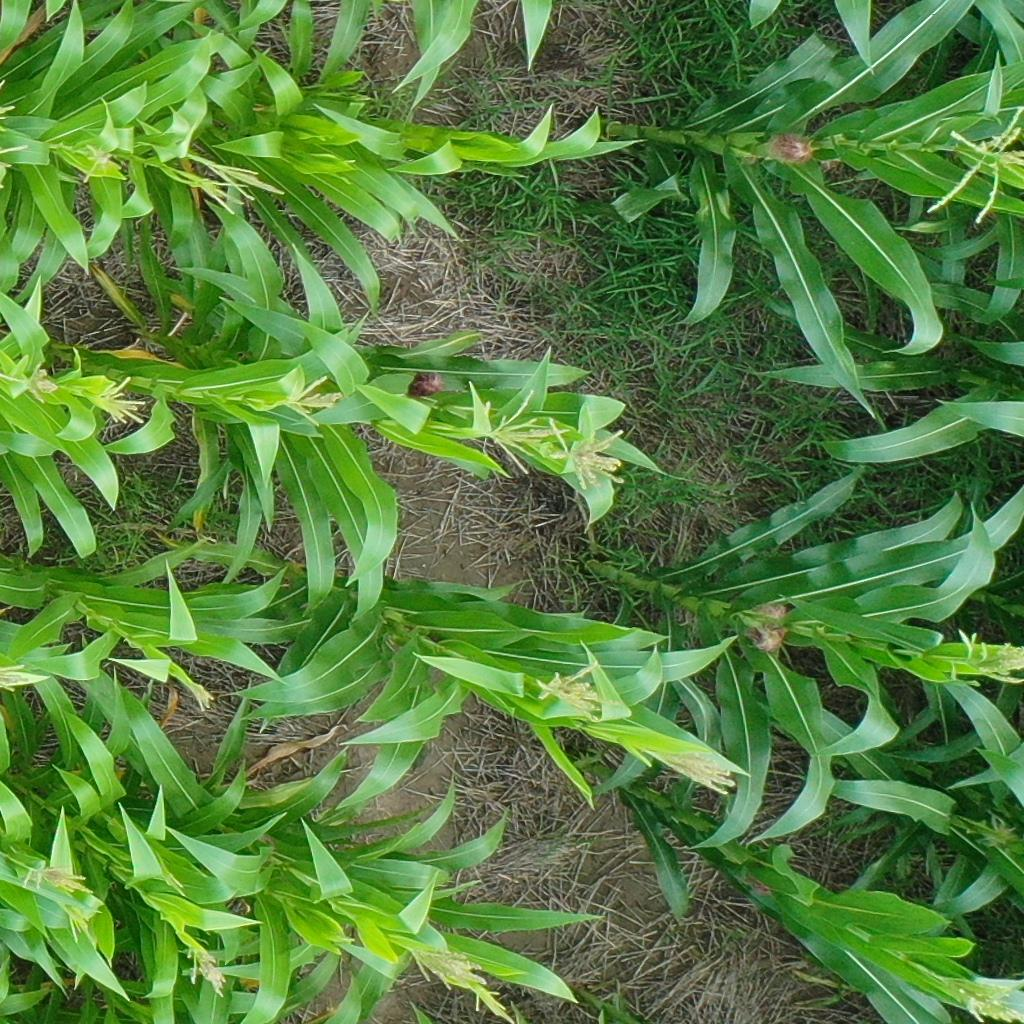Tassel: (923, 101, 1024, 227), (475, 385, 572, 475), (646, 734, 745, 803), (534, 658, 632, 727), (550, 415, 632, 491), (193, 146, 287, 201), (398, 938, 488, 995), (938, 975, 1024, 1022), (283, 367, 348, 427), (91, 373, 154, 428), (18, 857, 99, 898), (186, 173, 254, 220), (1, 75, 28, 188), (966, 638, 1024, 687), (1, 353, 57, 402), (180, 944, 237, 992), (64, 902, 104, 950), (85, 138, 114, 187), (153, 863, 188, 899), (1, 661, 36, 697), (184, 679, 217, 713)
